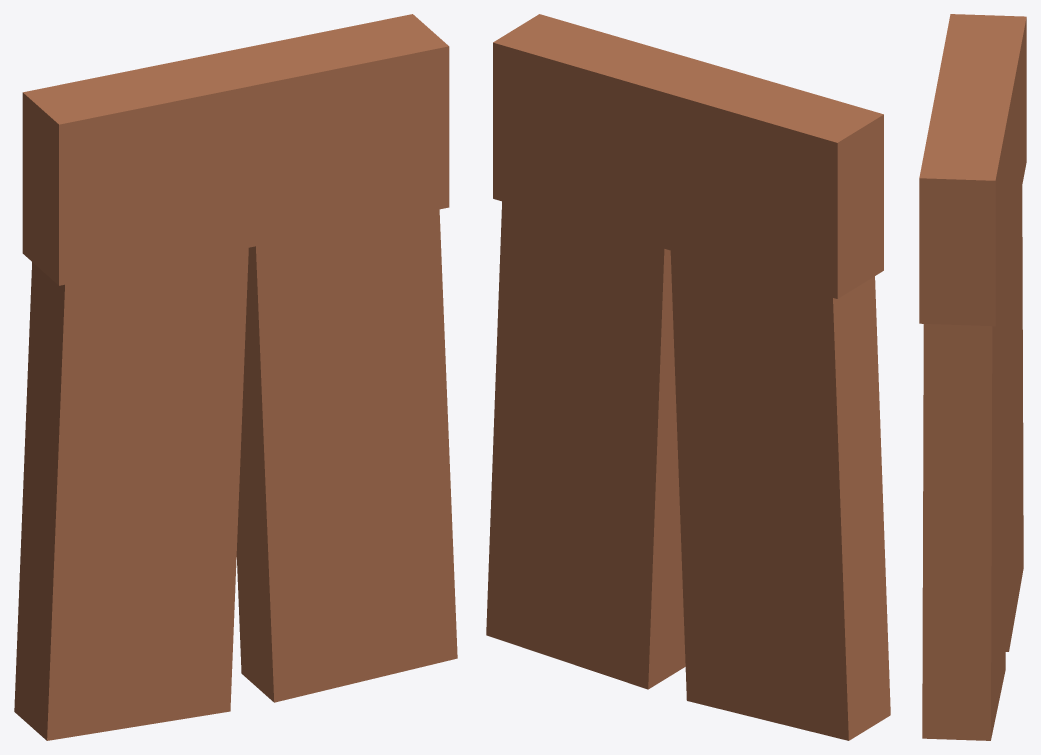
File: pants-006.v1.glb
The picture shows the model from 3 angles, left to right: view 1: azimuth 30°, elevation 25°; view 2: azimuth 150°, elevation 25°; view 3: azimuth 270°, elevation 25°; orthographic projection. The views are drawn at different scales.
Visible parts, largest first — view 1: Garment; view 2: Garment; view 3: Garment.
Part boxes in pixels (bbox=[...]): Garment: bbox=[14, 14, 457, 740]; Garment: bbox=[486, 14, 890, 740]; Garment: bbox=[919, 14, 1026, 740].
Size of the model in its own units: 1.08 by 1.62 by 0.2809.
